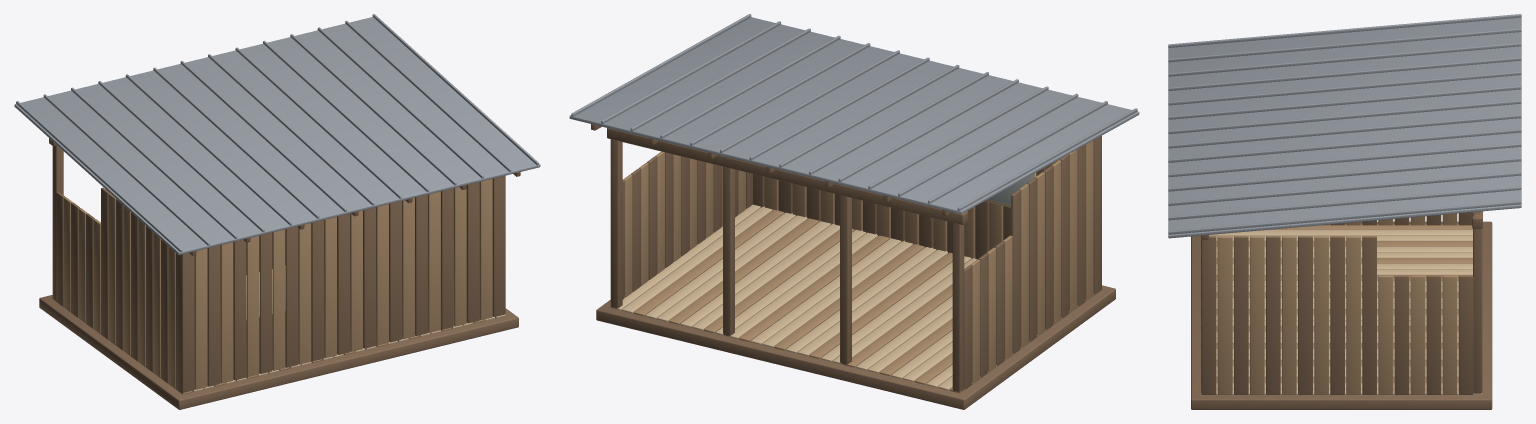
Rendered from Szopa.fbx.
3 renders of one model, left to right at view 1: azimuth 30°, elevation 25°; view 2: azimuth 150°, elevation 25°; view 3: azimuth 270°, elevation 25°, orthographic. The views are drawn at different scales.
Parts seen in each view (by area): view 1: Szopa_Dach, Szopa_Sciany, Szopa_Podloga; view 2: Szopa_Dach, Szopa_Podloga, Szopa_Sciany; view 3: Szopa_Dach, Szopa_Sciany, Szopa_Podloga.
Boxes of the visible parts, bbox=[...] form: Szopa_Dach: bbox=[14, 14, 540, 255]; Szopa_Sciany: bbox=[56, 175, 505, 394]; Szopa_Podloga: bbox=[39, 146, 518, 409]; Szopa_Dach: bbox=[569, 14, 1139, 224]; Szopa_Podloga: bbox=[596, 139, 1115, 409]; Szopa_Sciany: bbox=[622, 136, 1101, 389]; Szopa_Dach: bbox=[1168, 14, 1521, 239]; Szopa_Sciany: bbox=[1201, 212, 1473, 394]; Szopa_Podloga: bbox=[1191, 212, 1492, 409].
Bounding box in the file's own units: 670 × 352 × 528.
